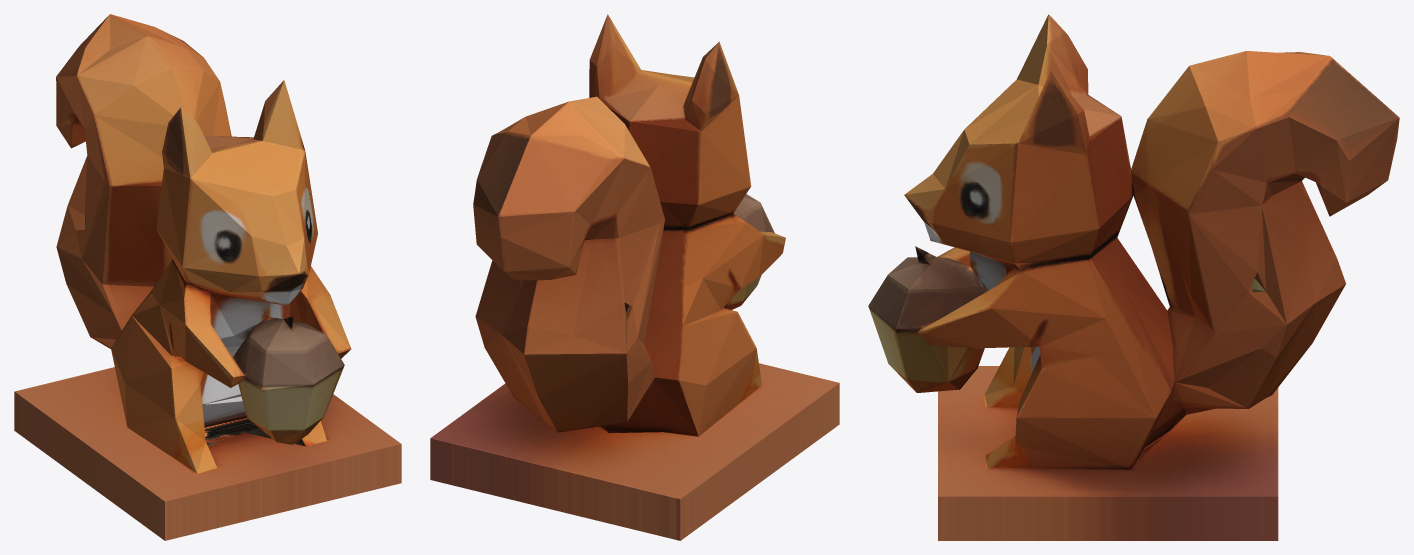
Rendered from model-pick-3.glb.
3 views of the same model, side by side, from view 1: azimuth 30°, elevation 25°; view 2: azimuth 150°, elevation 25°; view 3: azimuth 270°, elevation 25° (orthographic). The views are drawn at different scales.
Parts seen in each view (by area): view 1: geometry_0; view 2: geometry_0; view 3: geometry_0.
Part boxes in pixels (box(x1,y1,x2,y2)): geometry_0: box(14, 14, 401, 540); geometry_0: box(430, 14, 839, 540); geometry_0: box(868, 14, 1399, 540).
Bounding box in the file's own units: 0.3027 × 0.4686 × 0.5206.
1 material, 1 textured.
